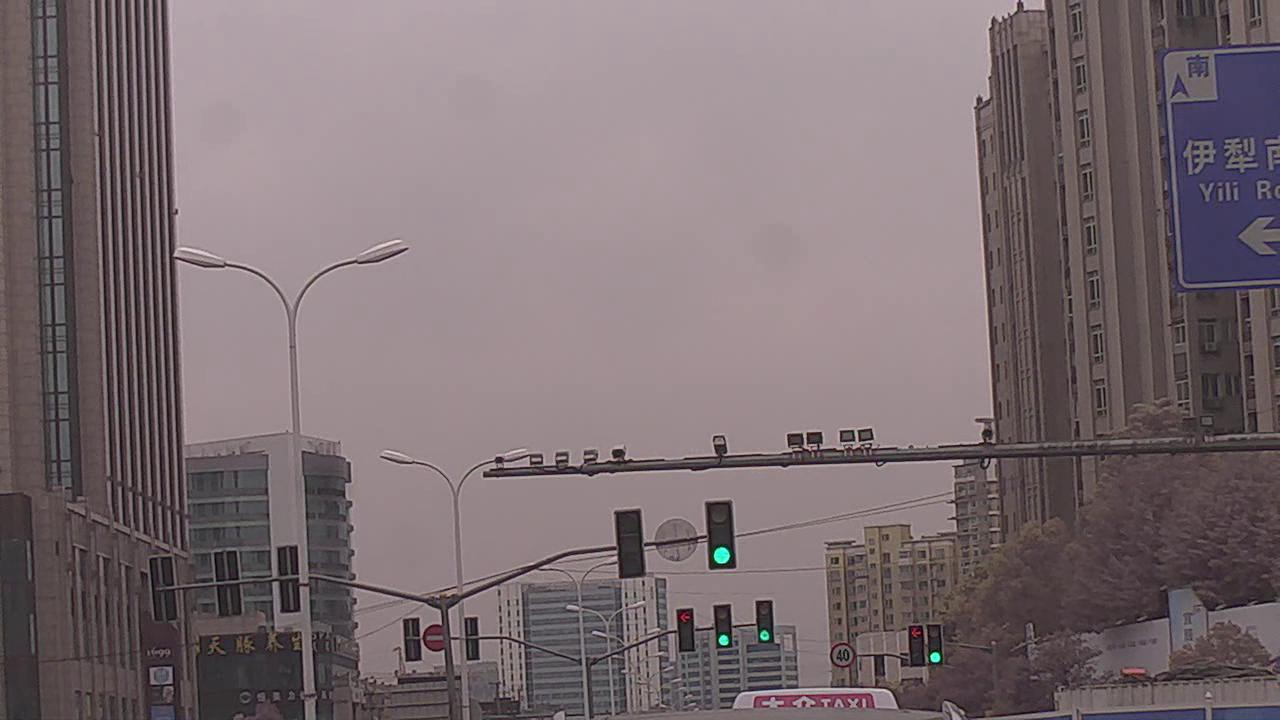traffic_light: (615, 507, 648, 579), (706, 500, 735, 568), (712, 602, 734, 650), (676, 607, 696, 653), (757, 599, 775, 646), (907, 624, 926, 666), (926, 622, 944, 665)
